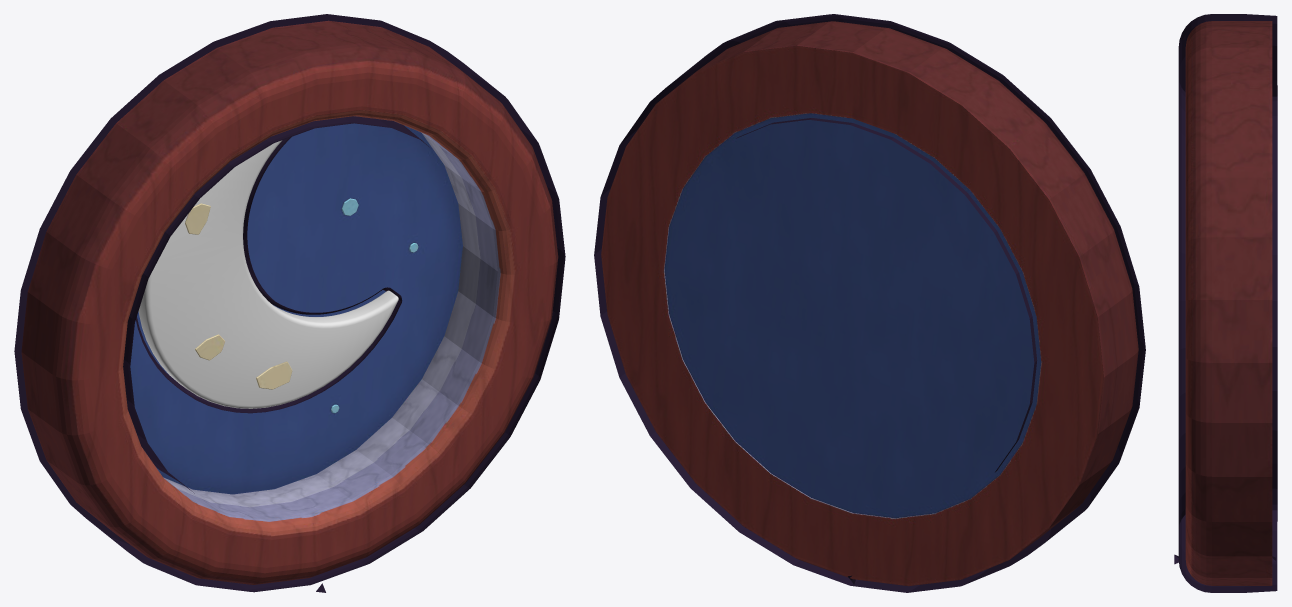
Rendered from Window.glb.
3 renders of one model, left to right at view 1: azimuth 30°, elevation 25°; view 2: azimuth 150°, elevation 25°; view 3: azimuth 270°, elevation 25°, orthographic. The views are drawn at different scales.
Parts seen in each view (by area): view 1: Window, MoonGlow, Window_Outline; view 2: Window, Window_Outline; view 3: Window, Window_Outline.
Boxes of the visible parts, x1=… form: Window: x1=21, y1=20, x2=558, y2=584; MoonGlow: x1=138, y1=140, x2=398, y2=408; Window_Outline: x1=14, y1=14, x2=565, y2=592; Window: x1=601, y1=21, x2=1138, y2=586; Window_Outline: x1=594, y1=14, x2=1145, y2=592; Window: x1=1185, y1=21, x2=1272, y2=585; Window_Outline: x1=1178, y1=14, x2=1277, y2=592.
Bounding box in the file's own units: 6.15 × 6.15 × 1.09.
Materials: 2 (2 with a texture image).
